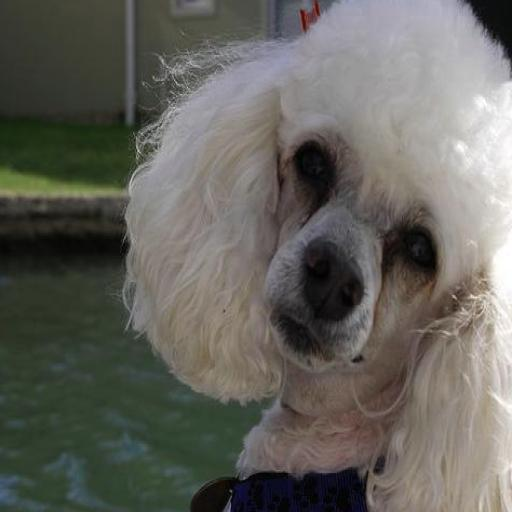dog_face: (125, 13, 512, 395)
